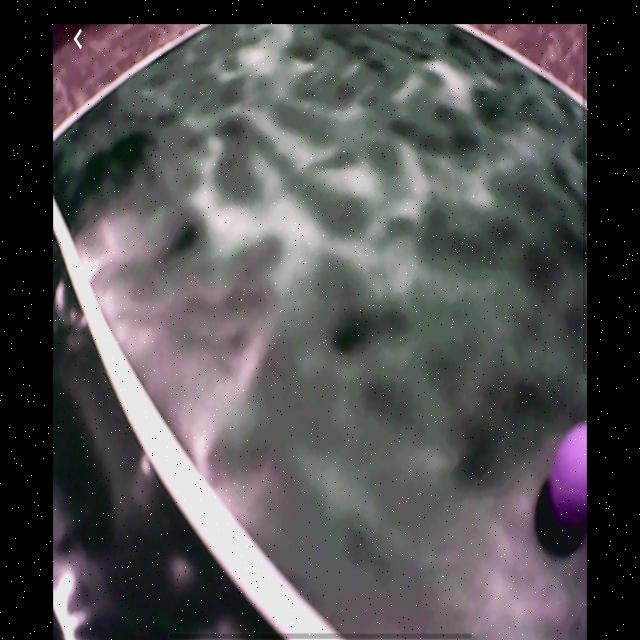ball: (553, 426, 590, 521)
